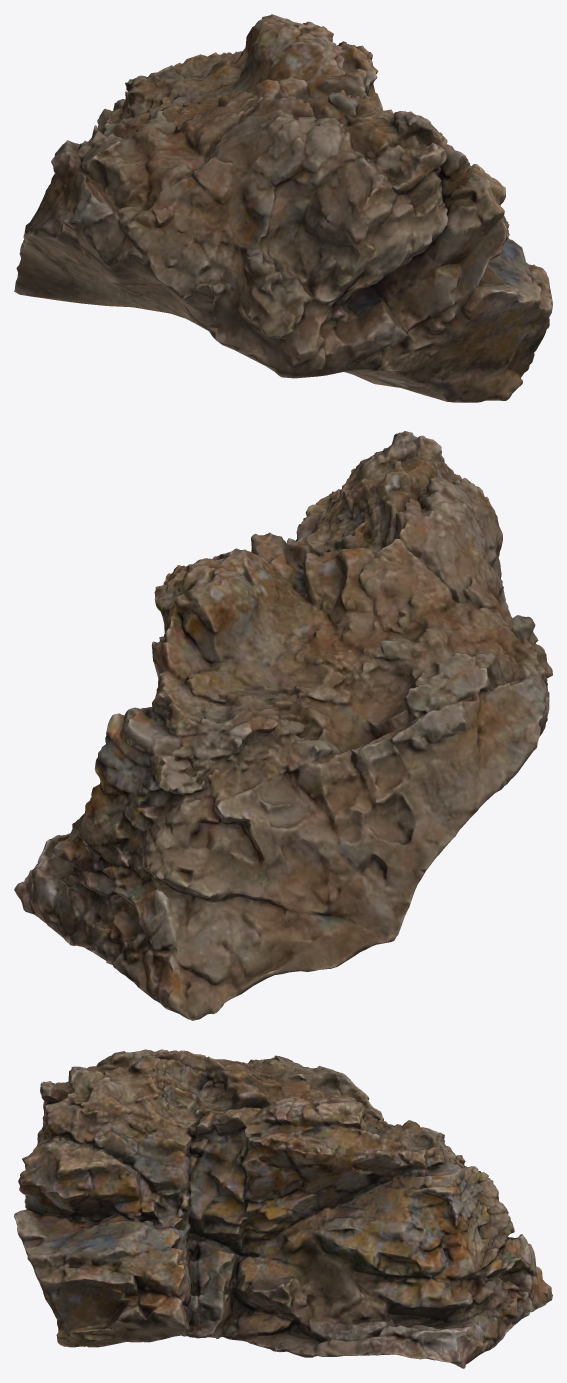
File: boulder_01.glb
The picture shows the model from 3 angles, top to bottom: view 1: azimuth 30°, elevation 25°; view 2: azimuth 150°, elevation 25°; view 3: azimuth 270°, elevation 25°; orthographic projection. The views are drawn at different scales.
Parts seen in each view (by area): view 1: boulder_01; view 2: boulder_01; view 3: boulder_01.
Part boxes in pixels (x1,y1,x2,y2): boulder_01: (14, 14, 552, 402); boulder_01: (14, 431, 552, 1020); boulder_01: (14, 1049, 552, 1368).
Bounding box in the file's own units: 1.27 × 1 × 1.83.
Materials: 1 (1 with a texture image).
